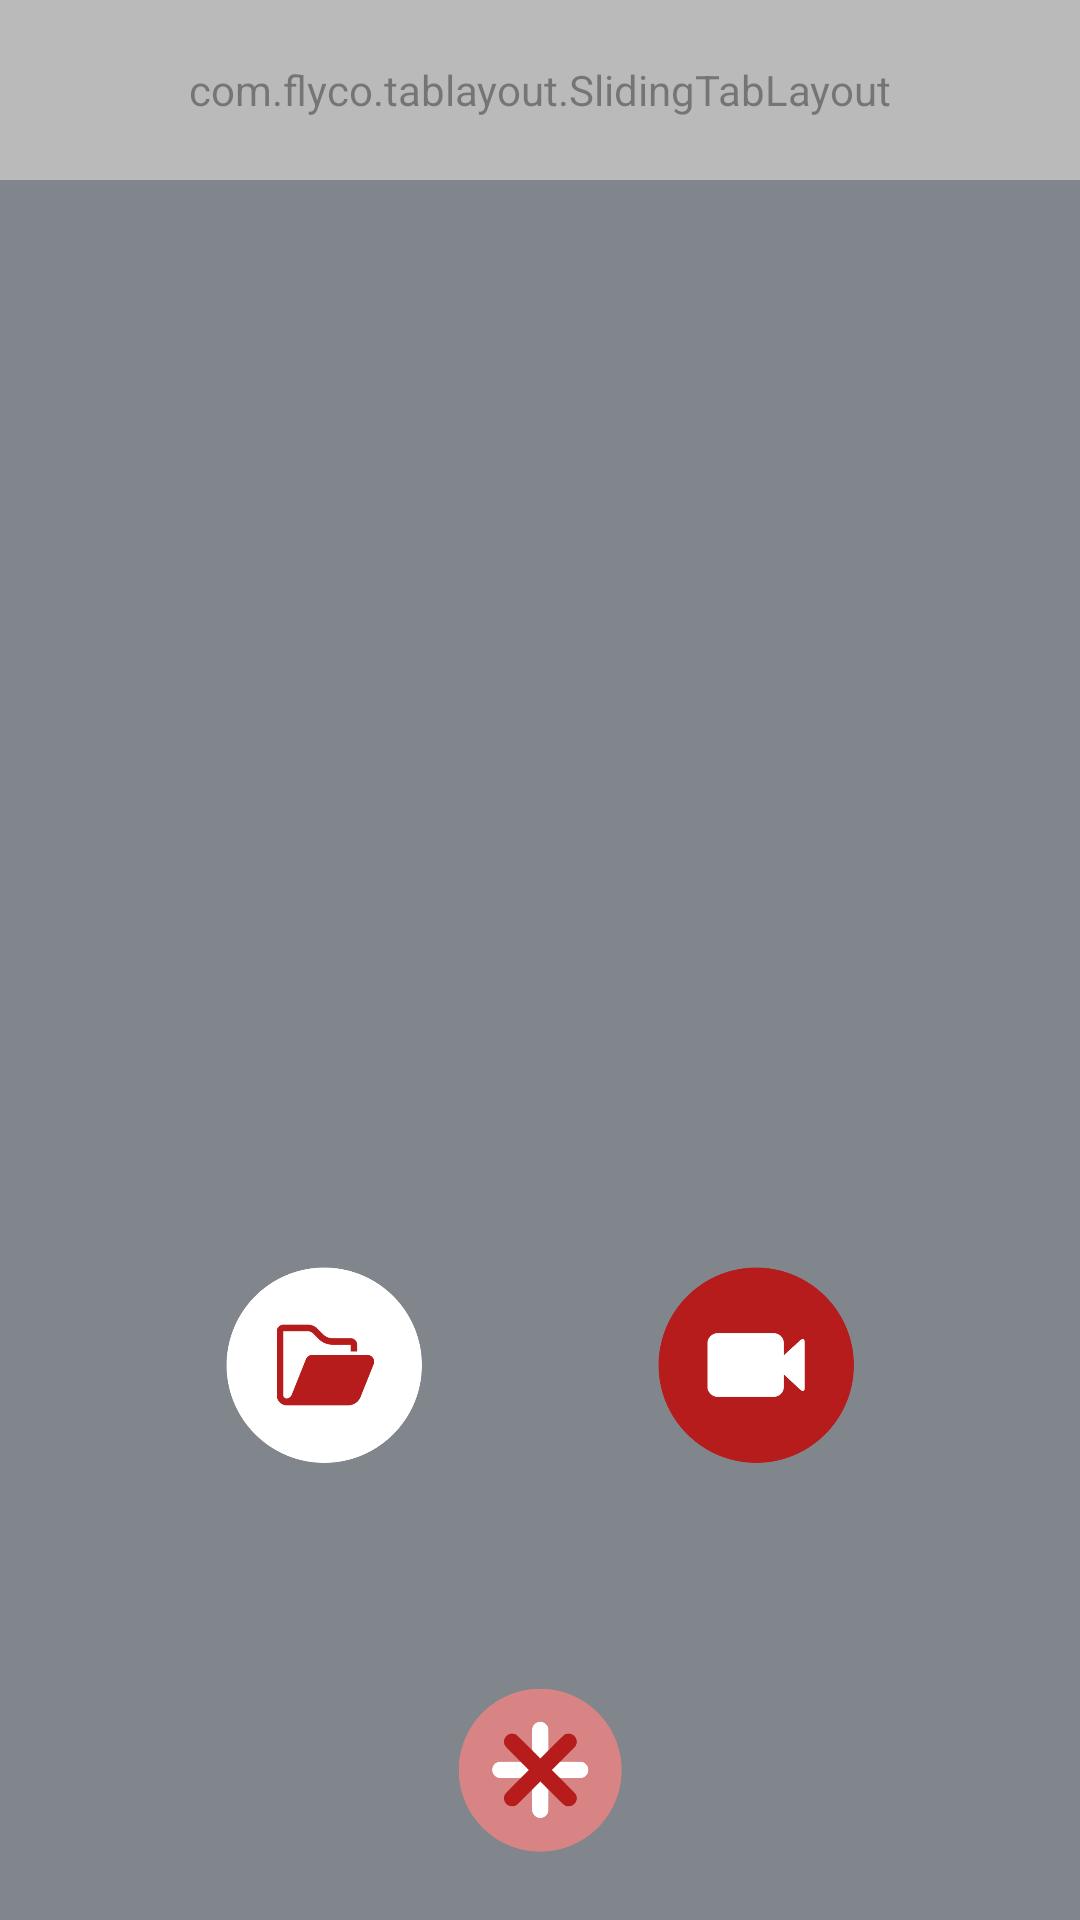

Where icons sit on this 1080*1920 app screen, as (x1, y1, x2, y2):
file: (226, 1267, 422, 1463)
rec: (658, 1267, 854, 1463)
